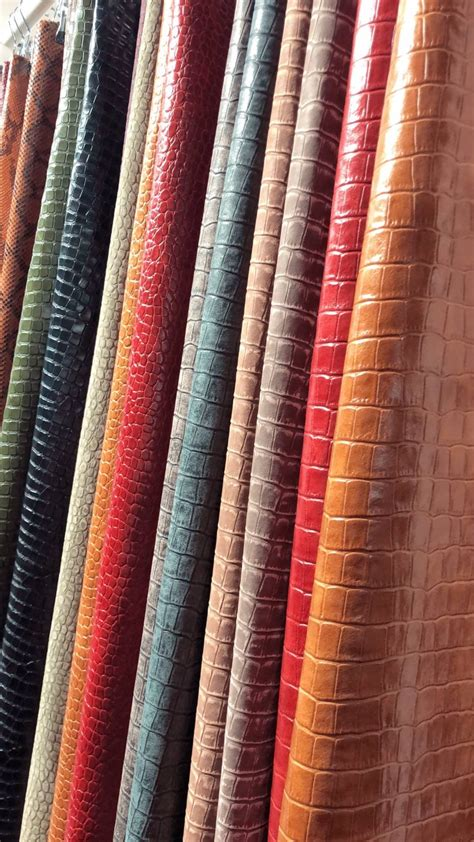cuero: (3, 7, 474, 842)
